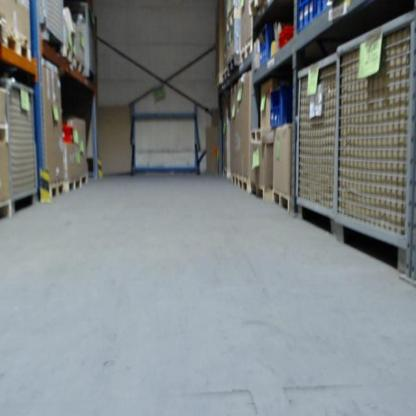pallet: (0, 23, 32, 64), (229, 38, 254, 74), (250, 182, 272, 202), (272, 191, 292, 211), (48, 180, 67, 197), (0, 200, 12, 221), (238, 178, 253, 192), (74, 58, 85, 76), (249, 130, 263, 144), (66, 179, 81, 192), (231, 175, 241, 185), (222, 69, 229, 82)
small_load_carrier: (269, 89, 292, 126), (258, 21, 277, 64), (298, 0, 315, 29), (312, 2, 332, 25)
stillage: (336, 6, 414, 284), (295, 45, 341, 239), (1, 70, 40, 222), (38, 1, 69, 54)
